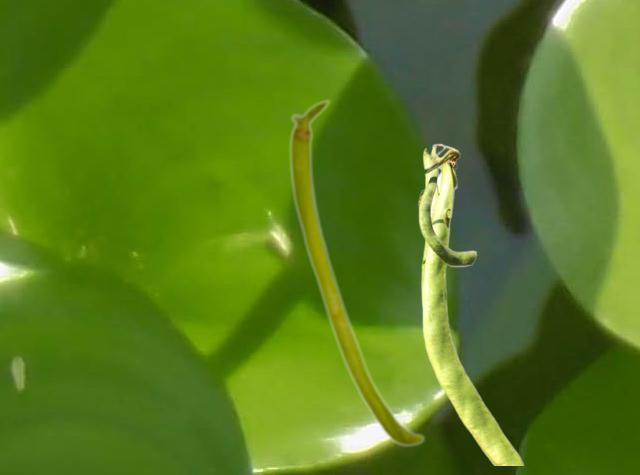french_bean: (288, 98, 425, 447), (417, 143, 523, 464)
